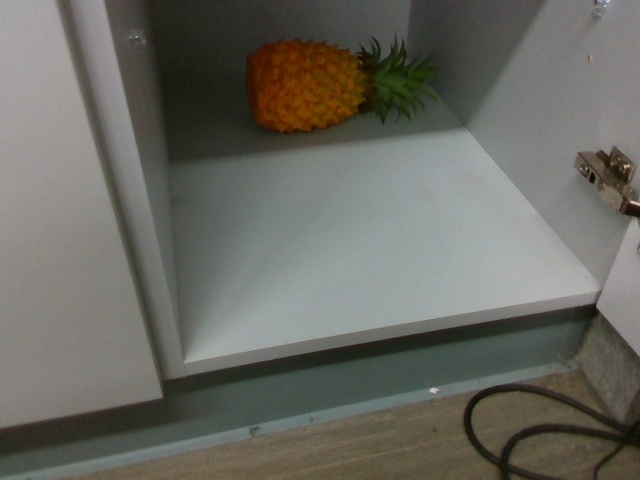pineapple: (240, 38, 435, 132)
